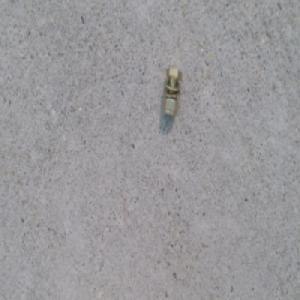BoltNutSet: (159, 68, 182, 118)
